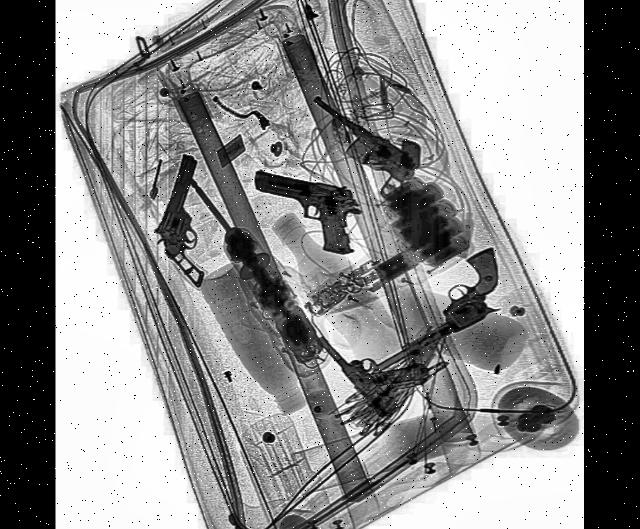Gun: (354, 242, 513, 377), (317, 284, 432, 430), (300, 90, 420, 207), (147, 147, 238, 288), (248, 166, 364, 256)
